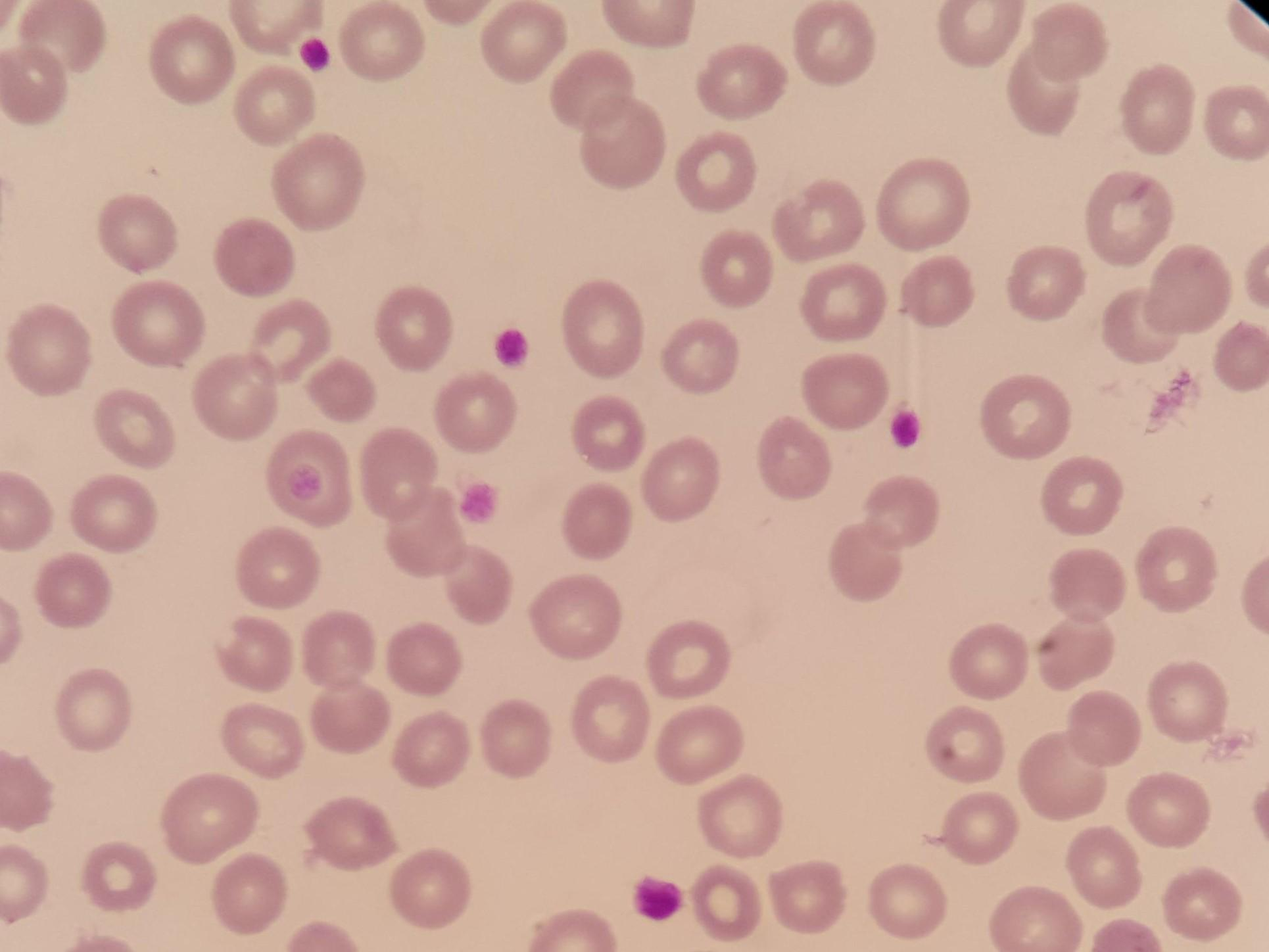Uninfected: (871, 155, 969, 249), (273, 132, 366, 228), (161, 776, 259, 865), (265, 429, 354, 524), (981, 373, 1072, 462), (383, 484, 468, 579), (529, 571, 621, 658), (1087, 173, 1173, 265), (1021, 732, 1106, 824), (7, 304, 91, 397), (580, 96, 665, 187), (115, 283, 203, 369), (656, 705, 746, 787), (304, 797, 405, 870), (153, 15, 234, 106), (359, 428, 439, 520), (194, 350, 274, 441), (570, 673, 650, 764), (776, 176, 865, 257), (565, 281, 642, 374), (699, 778, 784, 862), (478, 0, 565, 82), (1147, 244, 1228, 332), (253, 298, 333, 387), (549, 48, 635, 130), (804, 350, 890, 431), (69, 475, 154, 556), (1137, 528, 1216, 615), (799, 265, 889, 341), (376, 285, 454, 372), (1067, 819, 1143, 908), (1119, 61, 1193, 152), (1147, 659, 1229, 741), (436, 373, 516, 457), (700, 41, 785, 120), (339, 4, 425, 82), (220, 702, 307, 779), (644, 433, 721, 520), (15, 0, 101, 77), (797, 0, 874, 86), (1009, 245, 1090, 326), (215, 217, 295, 299), (646, 620, 728, 700), (237, 528, 320, 607), (758, 416, 835, 500), (306, 681, 395, 753), (391, 850, 470, 931), (679, 129, 757, 211), (1103, 286, 1182, 365), (94, 390, 174, 468), (97, 194, 175, 274), (236, 64, 314, 144), (1129, 773, 1210, 850), (952, 620, 1028, 702), (59, 666, 133, 750), (1036, 612, 1112, 693), (1041, 461, 1123, 536), (299, 607, 379, 683), (991, 886, 1083, 952), (1070, 689, 1145, 769), (1011, 48, 1079, 136), (768, 858, 844, 936), (1047, 546, 1124, 622), (395, 710, 471, 787), (664, 316, 739, 394), (33, 553, 109, 629), (1165, 865, 1241, 941), (559, 484, 634, 561), (870, 863, 948, 937), (219, 613, 293, 691), (830, 523, 903, 602), (1037, 0, 1108, 81), (390, 620, 466, 695), (929, 705, 1003, 782), (482, 697, 551, 778), (215, 857, 285, 935), (940, 0, 1024, 65), (901, 252, 974, 326), (940, 791, 1016, 862), (705, 229, 775, 306), (868, 475, 941, 548), (577, 395, 647, 469), (449, 543, 512, 624), (231, 0, 320, 57), (1205, 81, 1269, 160), (82, 840, 153, 911), (692, 865, 759, 940), (0, 48, 66, 124), (0, 470, 54, 550), (0, 755, 55, 833), (312, 362, 378, 426), (1211, 321, 1269, 391), (0, 850, 50, 924)
